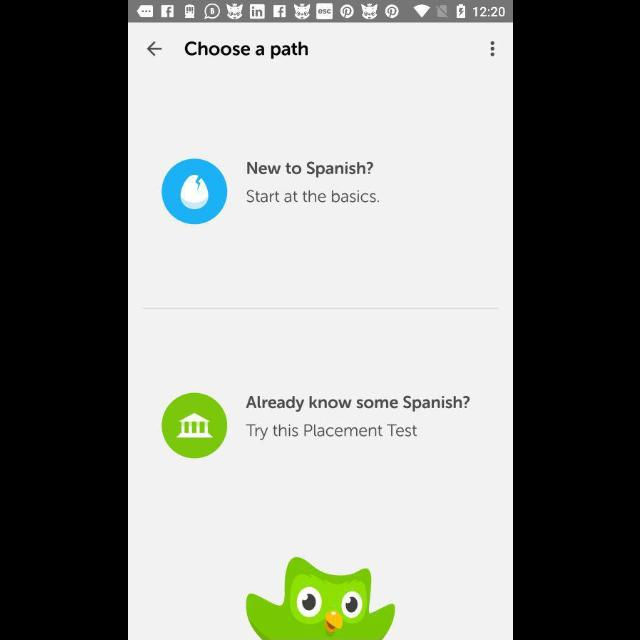icon: (161, 392, 227, 460), (146, 42, 162, 56), (490, 42, 494, 58)
image: (246, 556, 394, 640), (161, 159, 227, 225)
text: (245, 396, 469, 412), (246, 424, 417, 441), (185, 41, 308, 60), (246, 162, 374, 178), (245, 190, 378, 203)
uppertaskbar: (128, 1, 512, 23)
